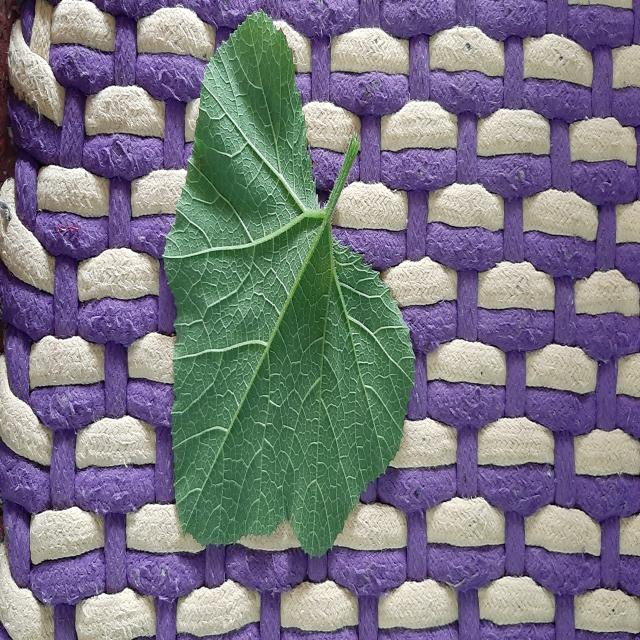pumpkin: (165, 14, 414, 555)
